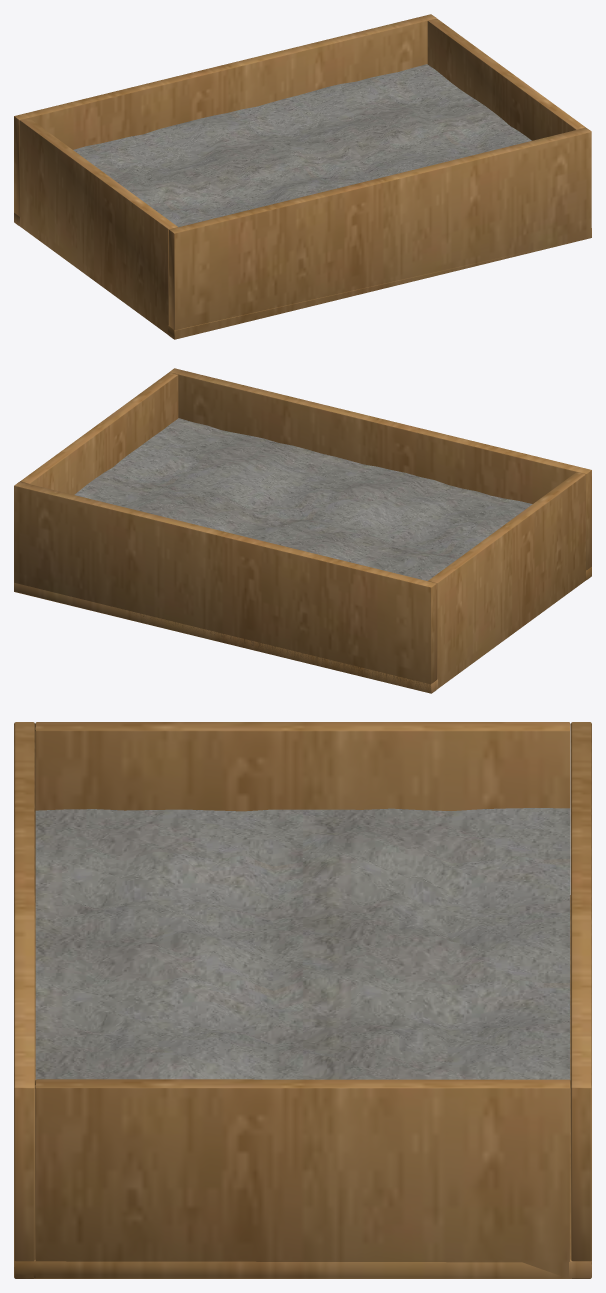
Rendered from REV-ARG-001_lod1.glb.
The picture shows the model from 3 angles, top to bottom: view 1: azimuth 30°, elevation 25°; view 2: azimuth 150°, elevation 25°; view 3: azimuth 270°, elevation 25°; orthographic projection. The views are drawn at different scales.
Parts seen in each view (by area): view 1: REV-ARG-001_lado-1, REV-ARG-001_argamassa, REV-ARG-001_lado1, REV-ARG-001_cab-1, REV-ARG-001_cab1, REV-ARG-001_fundo; view 2: REV-ARG-001_lado1, REV-ARG-001_argamassa, REV-ARG-001_lado-1, REV-ARG-001_cab-1, REV-ARG-001_cab1, REV-ARG-001_fundo; view 3: REV-ARG-001_argamassa, REV-ARG-001_cab1, REV-ARG-001_cab-1, REV-ARG-001_lado-1, REV-ARG-001_lado1, REV-ARG-001_fundo.
Part boxes in pixels (box(x1,y1,x2,y2)): REV-ARG-001_lado-1: box(169, 127, 591, 339); REV-ARG-001_argamassa: box(73, 64, 531, 227); REV-ARG-001_lado1: box(14, 14, 436, 225); REV-ARG-001_cab-1: box(19, 118, 177, 334); REV-ARG-001_cab1: box(427, 18, 585, 140); REV-ARG-001_fundo: box(14, 213, 591, 339); REV-ARG-001_lado1: box(14, 481, 436, 692); REV-ARG-001_argamassa: box(74, 418, 532, 580); REV-ARG-001_lado-1: box(169, 368, 591, 579); REV-ARG-001_cab-1: box(428, 472, 585, 688); REV-ARG-001_cab1: box(20, 372, 178, 494); REV-ARG-001_fundo: box(14, 567, 591, 693); REV-ARG-001_argamassa: box(35, 808, 570, 1079); REV-ARG-001_cab1: box(35, 1079, 570, 1278); REV-ARG-001_cab-1: box(35, 722, 570, 902); REV-ARG-001_lado-1: box(14, 722, 35, 1278); REV-ARG-001_lado1: box(570, 722, 591, 1278); REV-ARG-001_fundo: box(14, 895, 591, 1278).
Size of the model in its own units: 0.9 by 0.22 by 0.6.
2 materials, 2 textured.
